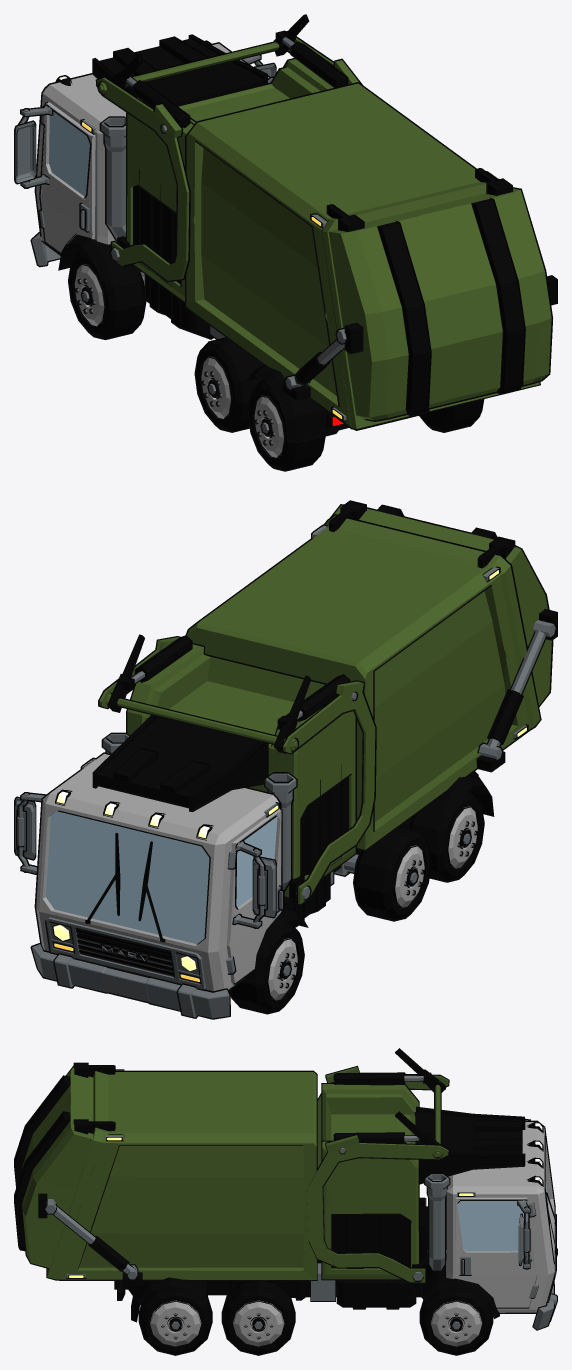
File: garbage_truck.glb
3 renders of one model, top to bottom at view 1: azimuth 30°, elevation 25°; view 2: azimuth 150°, elevation 25°; view 3: azimuth 270°, elevation 25°, orthographic. The views are drawn at different scales.
Parts seen in each view (by area): view 1: Cube023; view 2: Cube023; view 3: Cube023.
Part boxes in pixels (bbox=[...]): Cube023: bbox=[14, 14, 557, 471]; Cube023: bbox=[14, 500, 557, 1019]; Cube023: bbox=[14, 1048, 557, 1355].
Size of the model in its own units: 388 by 435 by 895.
